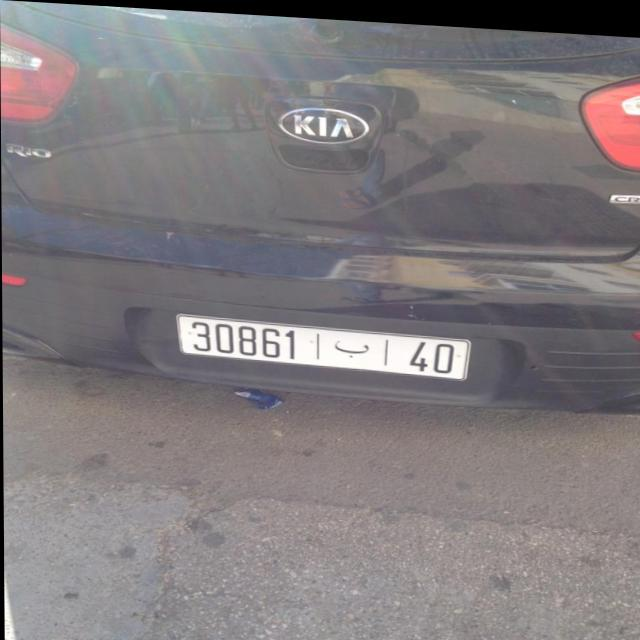License-Plate: (177, 313, 470, 375)
